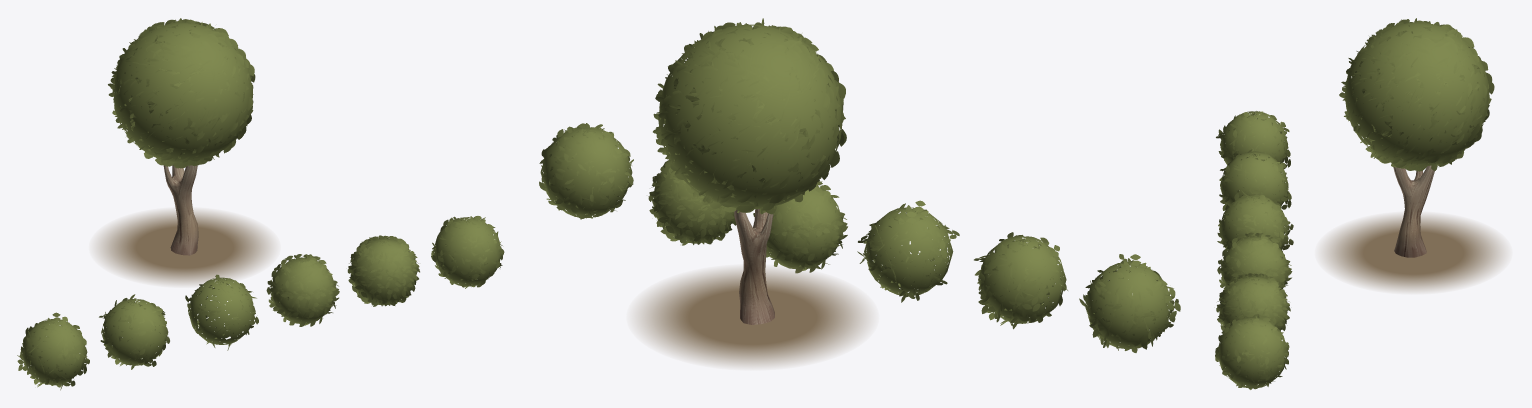
The picture shows the model from 3 angles, left to right: view 1: azimuth 30°, elevation 25°; view 2: azimuth 150°, elevation 25°; view 3: azimuth 270°, elevation 25°; orthographic projection. The views are drawn at different scales.
Parts seen in each view (by area): view 1: shell_outer, Plane002, tree_leaves, Mesh003_sphere_0, Mesh006_sphere_0, Mesh002_sphere_0, Plane007, Mesh001_sphere_0, Plane006, Mesh004_sphere_0, tree_trunk_RETOP, Mesh005_sphere_0 (+4 smaller); view 2: shell_outer, Plane002, tree_leaves, Mesh006_sphere_0, Mesh003_sphere_0, Mesh002_sphere_0, Mesh001_sphere_0, Mesh004_sphere_0, tree_trunk_RETOP, Plane006, Plane008, Plane007 (+4 smaller); view 3: shell_outer, Plane002, tree_leaves, Mesh006_sphere_0, Mesh002_sphere_0, tree_trunk_RETOP, Mesh001_sphere_0, Plane007, Mesh003_sphere_0, Plane006, Plane008, Mesh004_sphere_0 (+4 smaller).
Boxes of the visible parts, x1,y1,x2,y2 form: shell_outer: [112, 22, 253, 162]; Plane002: [95, 210, 274, 285]; tree_leaves: [108, 18, 255, 168]; Mesh003_sphere_0: [188, 277, 255, 344]; Mesh006_sphere_0: [433, 217, 501, 286]; Mesh002_sphere_0: [101, 299, 168, 365]; Plane007: [347, 235, 419, 306]; Mesh001_sphere_0: [21, 319, 87, 385]; Plane006: [266, 254, 339, 326]; Mesh004_sphere_0: [270, 257, 335, 323]; tree_trunk_RETOP: [163, 165, 198, 255]; Mesh005_sphere_0: [350, 238, 417, 305]; shell_outer: [658, 24, 842, 209]; Plane002: [634, 267, 870, 366]; tree_leaves: [653, 18, 846, 214]; Mesh006_sphere_0: [540, 127, 632, 218]; Mesh003_sphere_0: [864, 207, 953, 295]; Mesh002_sphere_0: [978, 235, 1066, 323]; Mesh001_sphere_0: [1085, 262, 1171, 349]; Mesh004_sphere_0: [766, 186, 842, 269]; tree_trunk_RETOP: [734, 209, 774, 324]; Plane006: [753, 181, 847, 273]; Plane008: [539, 123, 633, 219]; Plane007: [648, 159, 736, 245]; shell_outer: [1345, 22, 1488, 165]; Plane002: [1321, 214, 1505, 291]; tree_leaves: [1339, 18, 1494, 171]; Mesh006_sphere_0: [1218, 317, 1288, 388]; Mesh002_sphere_0: [1220, 151, 1288, 206]; tree_trunk_RETOP: [1393, 165, 1434, 257]; Mesh001_sphere_0: [1220, 111, 1287, 165]; Plane007: [1216, 273, 1290, 331]; Mesh003_sphere_0: [1219, 194, 1288, 250]; Plane006: [1217, 232, 1292, 289]; Plane008: [1215, 314, 1289, 389]; Mesh004_sphere_0: [1221, 236, 1287, 288].
Bounding box in the file's own units: 276 × 139 × 147.
4 materials, 4 textured.
